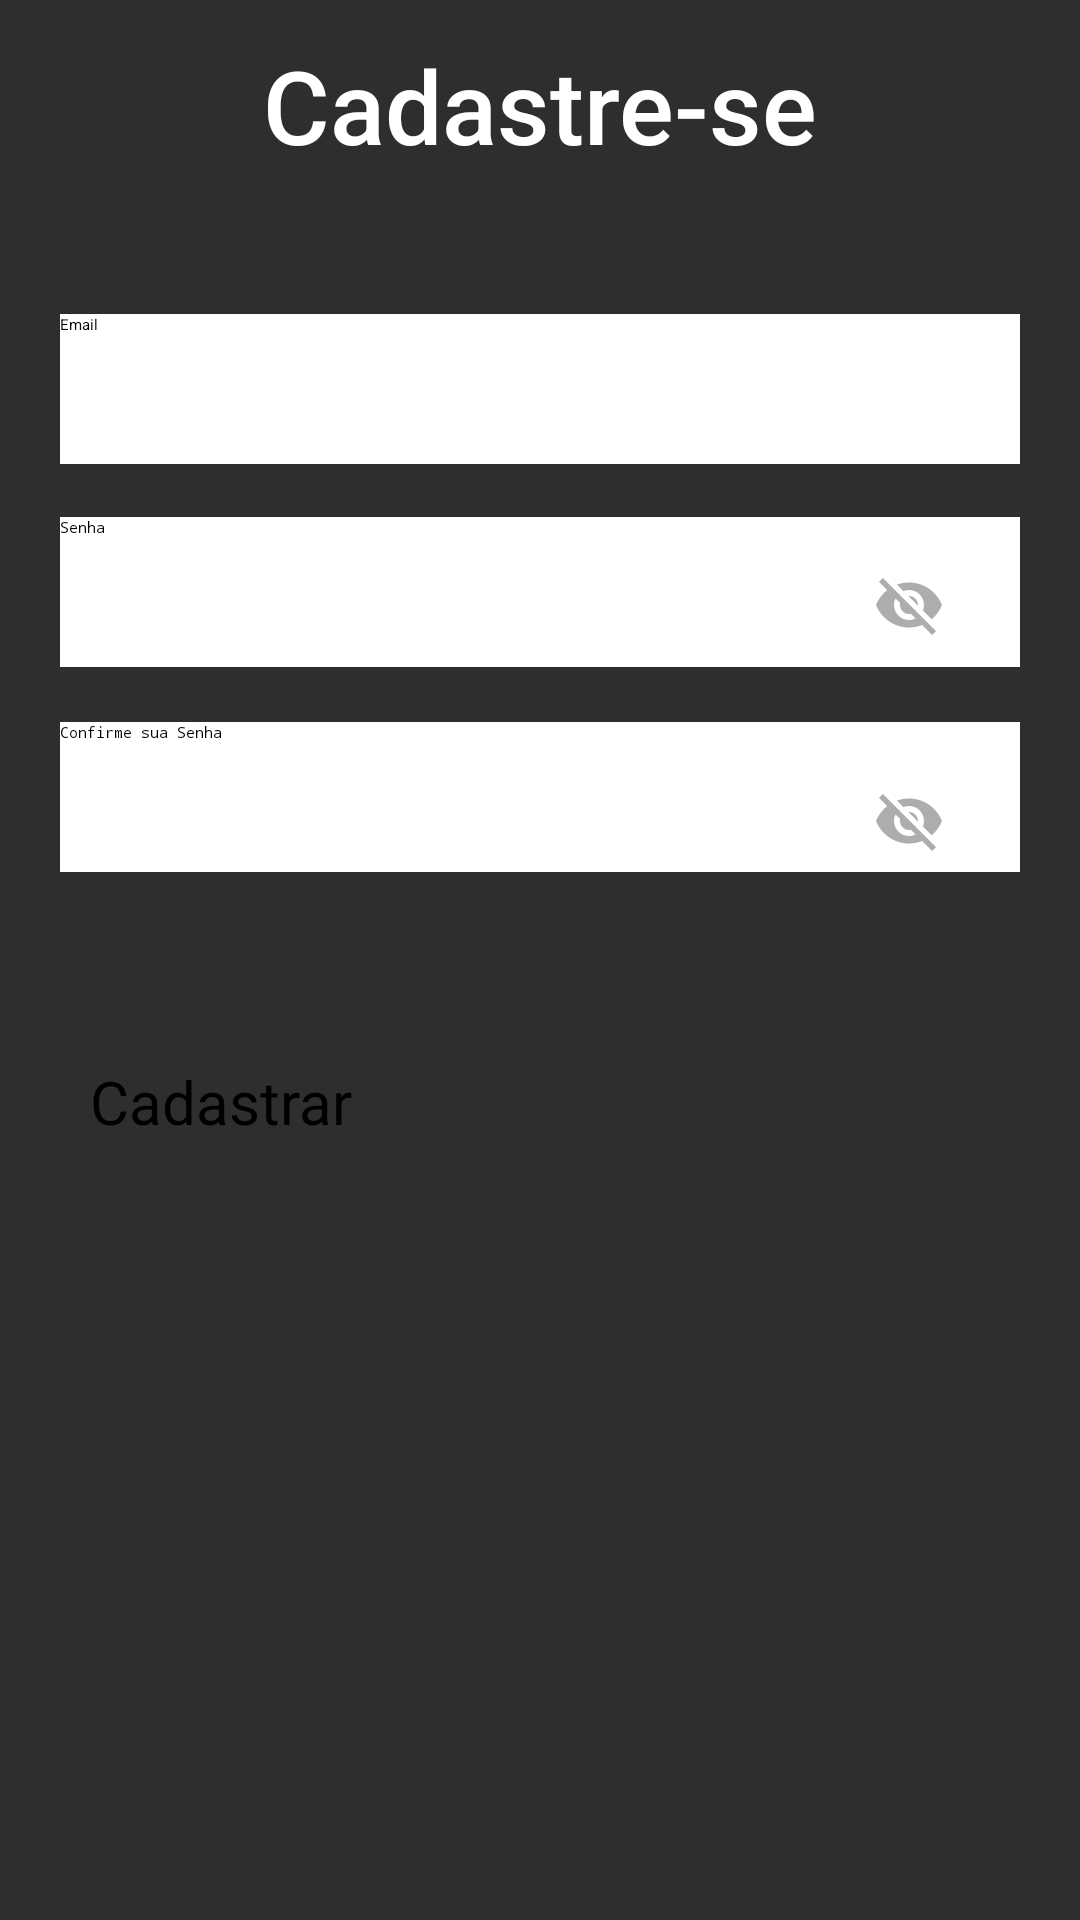

Where icons sit on this 1080x1920 app screen, as (x1, y1, x2, y2):
visibility off: (876, 578, 942, 635), (876, 794, 942, 851)
